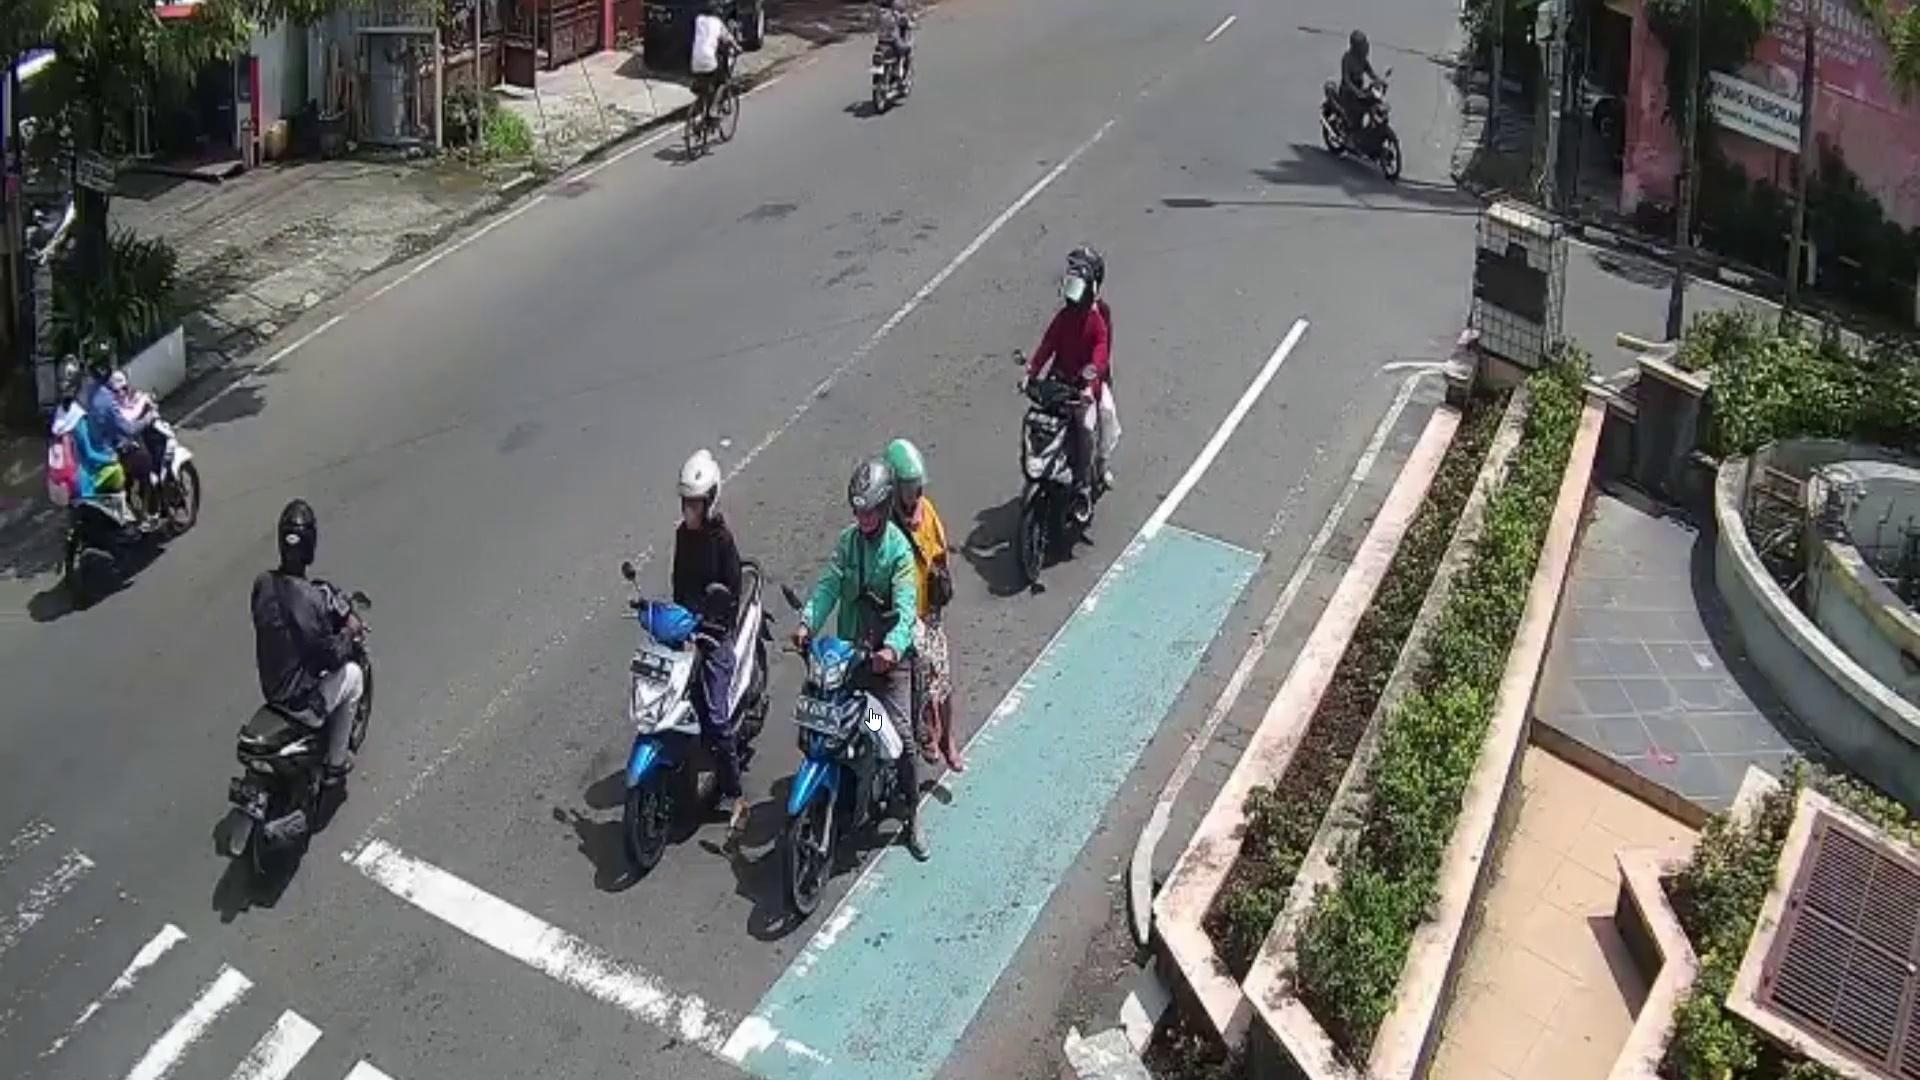motorbike: (223, 570, 382, 895), (616, 550, 777, 872), (781, 588, 923, 922), (54, 381, 206, 608), (1013, 368, 1106, 575), (1316, 76, 1408, 191), (861, 17, 930, 127)
